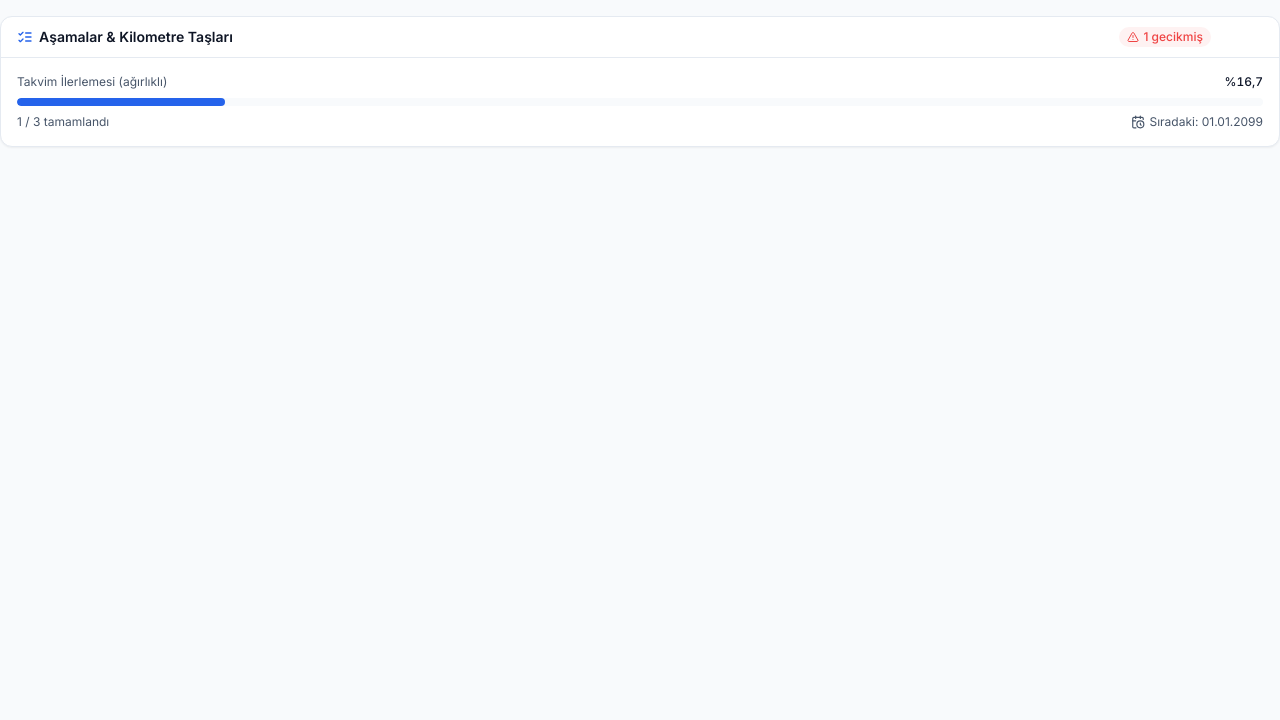
Test: MilestonesCard manager › lists milestones grouped by stage with overdue rows highlighted
This screenshot has width=1280, height=720.
What coordinates should you click on to do the following:
click the text "Aşamalar & Kilometre Taşları"
I would click on:
 (125, 37)
Its box is [17,27,233,47].
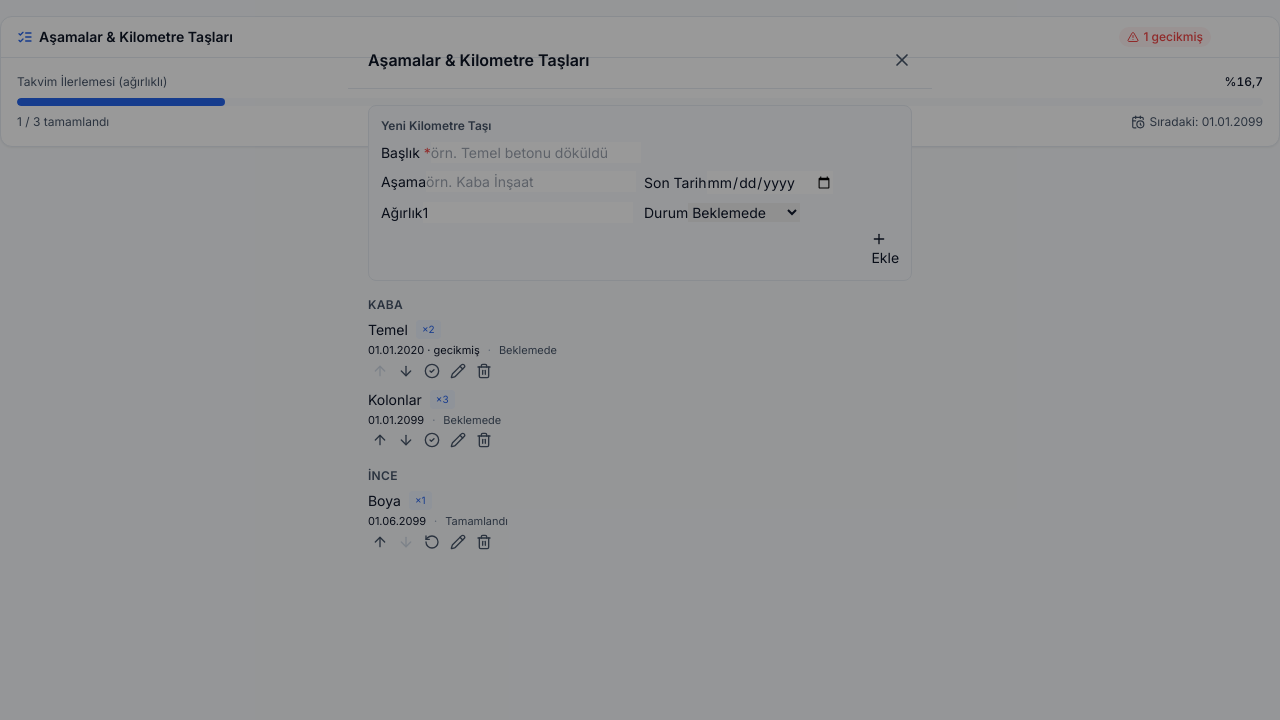
expect the text "Kaba" is shown: met, box [368,297,403,312]
expect the text "İnce" is shown: met, box [368,468,398,483]
expect the text "Temel" is shown: met, box [368,319,408,340]
